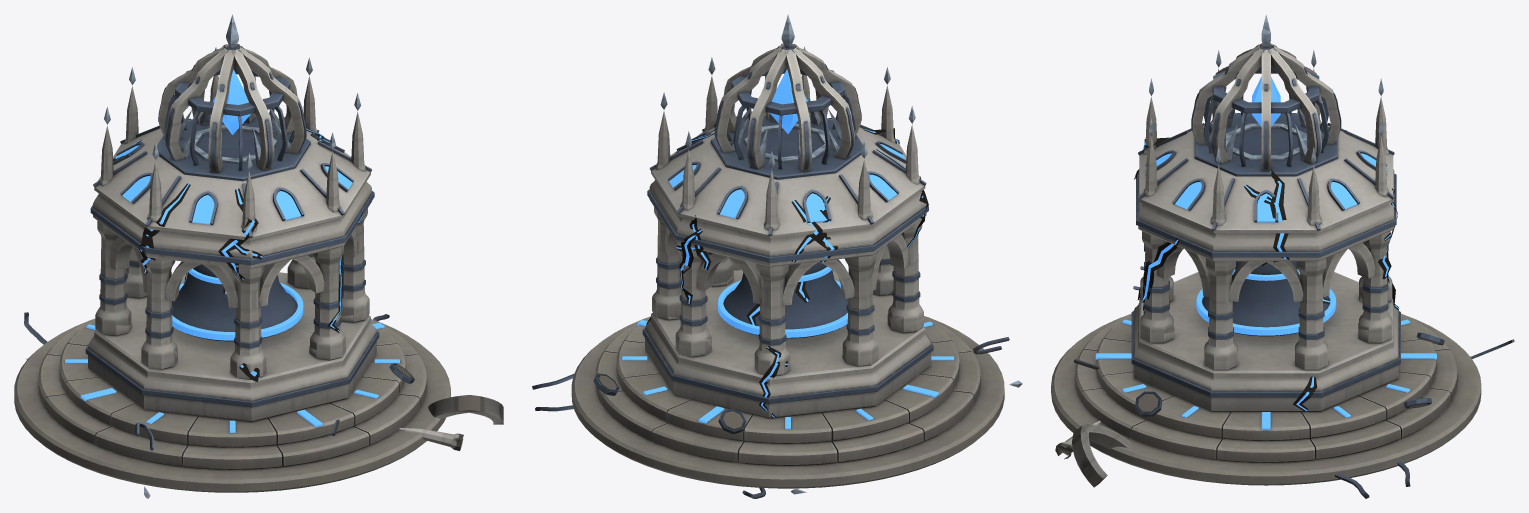
Rendered from hourbell_aubade.glb.
The picture shows the model from 3 angles, left to right: view 1: azimuth 30°, elevation 25°; view 2: azimuth 150°, elevation 25°; view 3: azimuth 270°, elevation 25°; orthographic projection.
Visible parts, largest first — view 1: hourbell_aubade_upper, hourbell_aubade_base, hourbell_aubade_ruin, hourbell_aubade_glow.001, hourbell_aubade_dmg2, hourbell_aubade_glow_base, hourbell_aubade_core, hourbell_aubade_chip1; view 2: hourbell_aubade_upper, hourbell_aubade_base, hourbell_aubade_glow.001, hourbell_aubade_ruin, hourbell_aubade_dmg2, hourbell_aubade_dmg1, hourbell_aubade_glow_base, hourbell_aubade_core, hourbell_aubade_chip1; view 3: hourbell_aubade_upper, hourbell_aubade_base, hourbell_aubade_ruin, hourbell_aubade_glow.001, hourbell_aubade_dmg2, hourbell_aubade_glow_base, hourbell_aubade_chip1, hourbell_aubade_dmg1, hourbell_aubade_core.
Part boxes in pixels (left/top/right/bottom): hourbell_aubade_upper: left=85, top=44, right=379, bottom=422; hourbell_aubade_base: left=14, top=318, right=450, bottom=492; hourbell_aubade_ruin: left=24, top=282, right=503, bottom=498; hourbell_aubade_glow.001: left=115, top=139, right=352, bottom=340; hourbell_aubade_dmg2: left=113, top=129, right=363, bottom=381; hourbell_aubade_glow_base: left=65, top=322, right=399, bottom=432; hourbell_aubade_core: left=212, top=69, right=250, bottom=134; hourbell_aubade_chip1: left=215, top=14, right=361, bottom=192; hourbell_aubade_upper: left=642, top=43, right=933, bottom=418; hourbell_aubade_base: left=571, top=316, right=1004, bottom=488; hourbell_aubade_glow.001: left=669, top=136, right=905, bottom=337; hourbell_aubade_ruin: left=532, top=257, right=1022, bottom=498; hourbell_aubade_dmg2: left=676, top=128, right=928, bottom=325; hourbell_aubade_dmg1: left=646, top=196, right=830, bottom=418; hourbell_aubade_glow_base: left=622, top=320, right=954, bottom=429; hourbell_aubade_core: left=770, top=69, right=807, bottom=133; hourbell_aubade_chip1: left=660, top=14, right=794, bottom=190; hourbell_aubade_upper: left=1131, top=43, right=1400, bottom=411; hourbell_aubade_base: left=1051, top=313, right=1481, bottom=485; hourbell_aubade_ruin: left=1055, top=266, right=1514, bottom=498; hourbell_aubade_glow.001: left=1146, top=153, right=1386, bottom=335; hourbell_aubade_dmg2: left=1134, top=121, right=1397, bottom=314; hourbell_aubade_glow_base: left=1095, top=319, right=1436, bottom=429; hourbell_aubade_chip1: left=1172, top=15, right=1383, bottom=210; hourbell_aubade_dmg1: left=1292, top=130, right=1399, bottom=411; hourbell_aubade_core: left=1252, top=76, right=1280, bottom=126.
Bounding box in the file's own units: 5.66 × 5.34 × 5.82.
4 materials, 1 textured.
